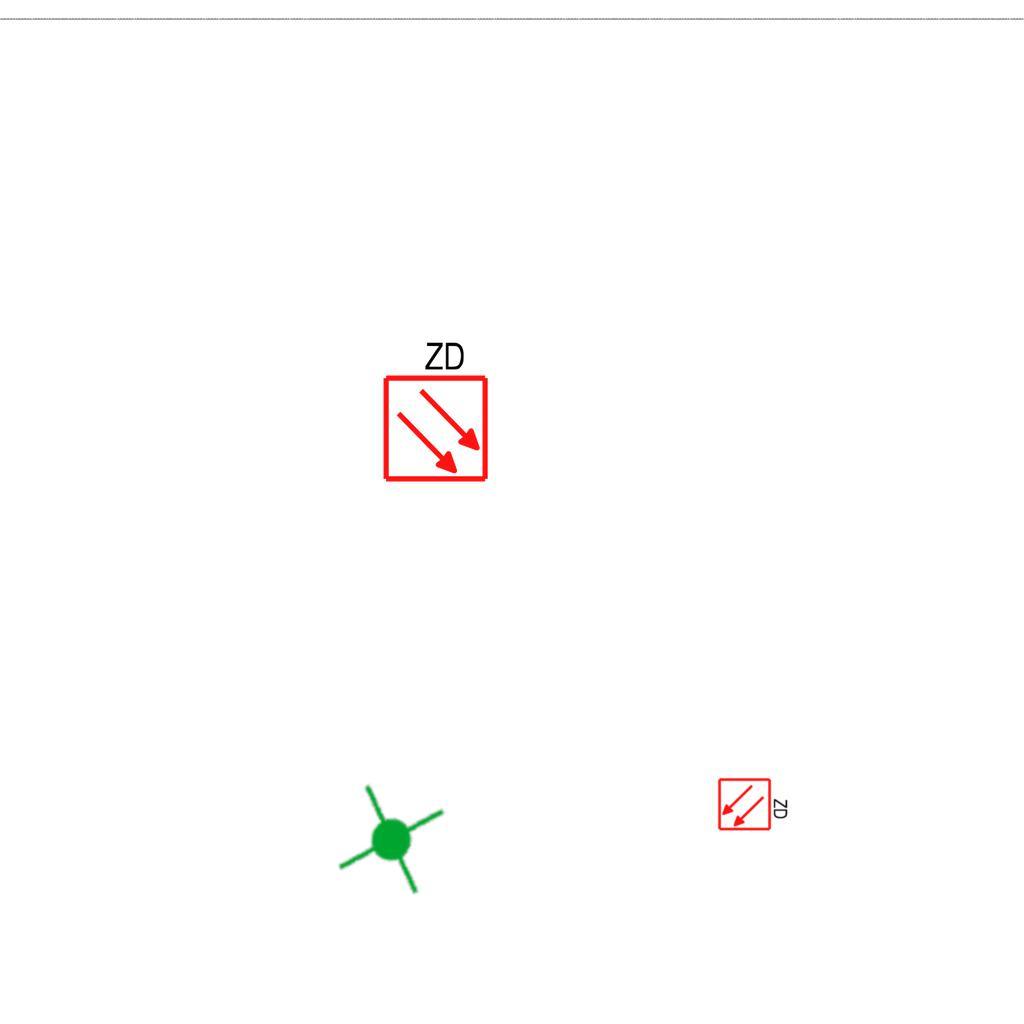Notlichtbaustein_in_Allgemeinbeleuchtug_engebaut_Einbau_(1UG_und_2UG_Aufbauvaria: (327, 775, 458, 905)
ZD_Melder_in_Zwischendecke_mit_Revisionsoeffnung_mind_40_x_40_cm: (377, 335, 491, 484), (717, 775, 791, 832)
